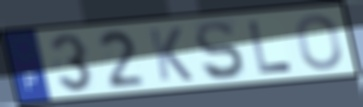2: (96, 28, 148, 91)
3: (47, 31, 97, 95)
K: (146, 25, 196, 83)
L: (246, 19, 295, 75)
O: (294, 12, 344, 72)
S: (193, 19, 248, 82)
